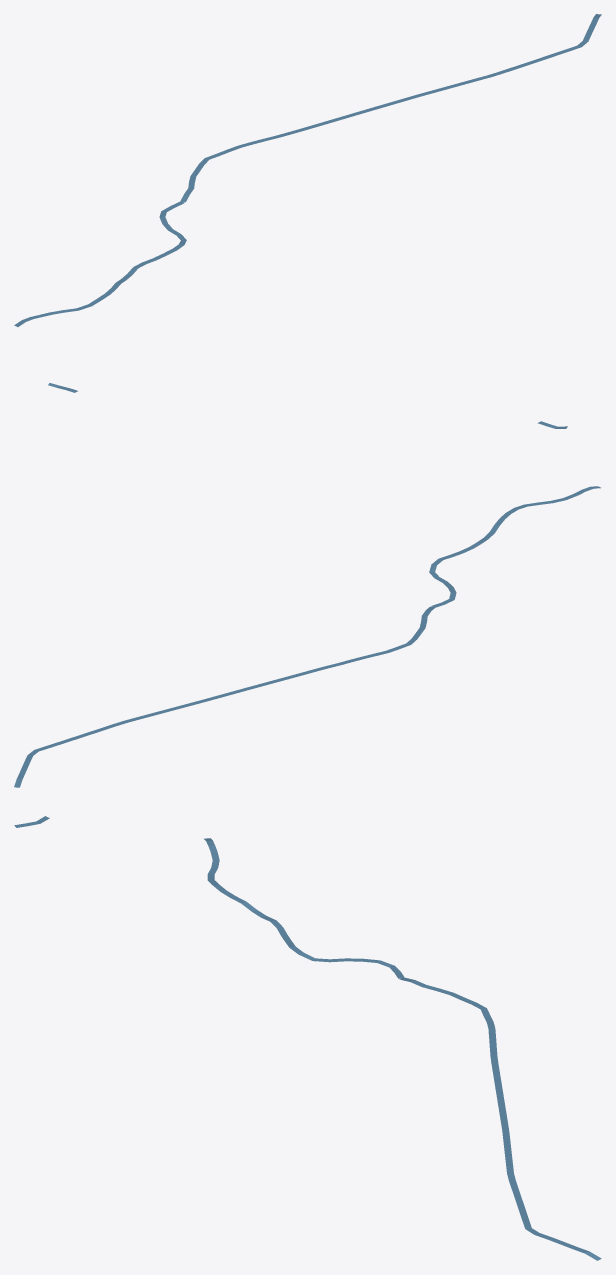
Rendered from c_1632_17837_water.glb.
3 views of the same model, one above another, from view 1: azimuth 30°, elevation 25°; view 2: azimuth 210°, elevation 25°; view 3: azimuth 270°, elevation 25° (orthographic). The views are drawn at different scales.
Visible parts, largest first — view 1: geometry_0; view 2: geometry_0; view 3: geometry_0.
Boxes of the visible parts, bbox=[...] form: geometry_0: bbox=[14, 14, 601, 392]; geometry_0: bbox=[14, 421, 600, 787]; geometry_0: bbox=[14, 816, 601, 1260].
Bounding box in the file's own units: 380 × 4.21 × 209.
